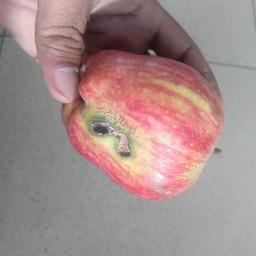Bad_apple: (60, 53, 227, 202)
